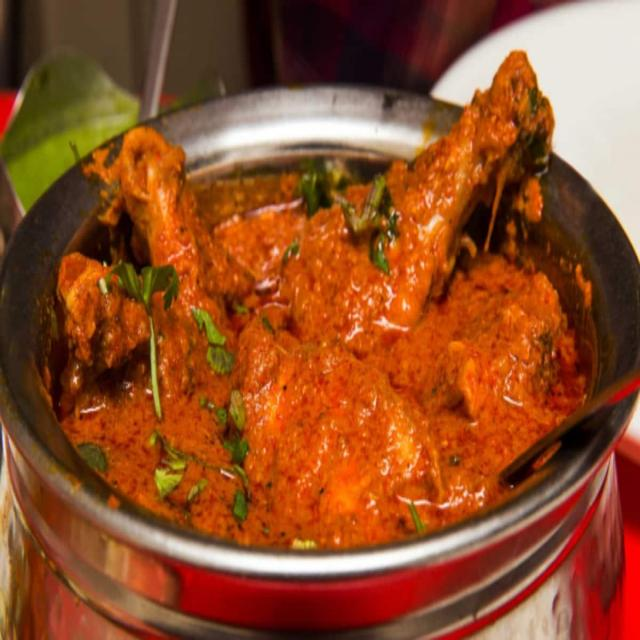chicken: (60, 74, 605, 535)
